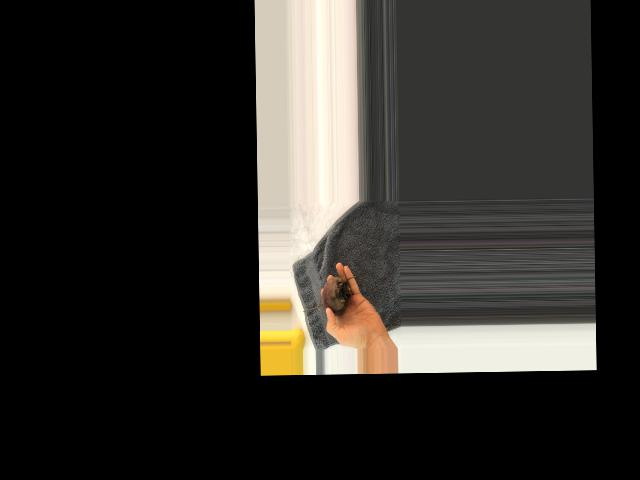beet: (302, 277, 352, 316)
